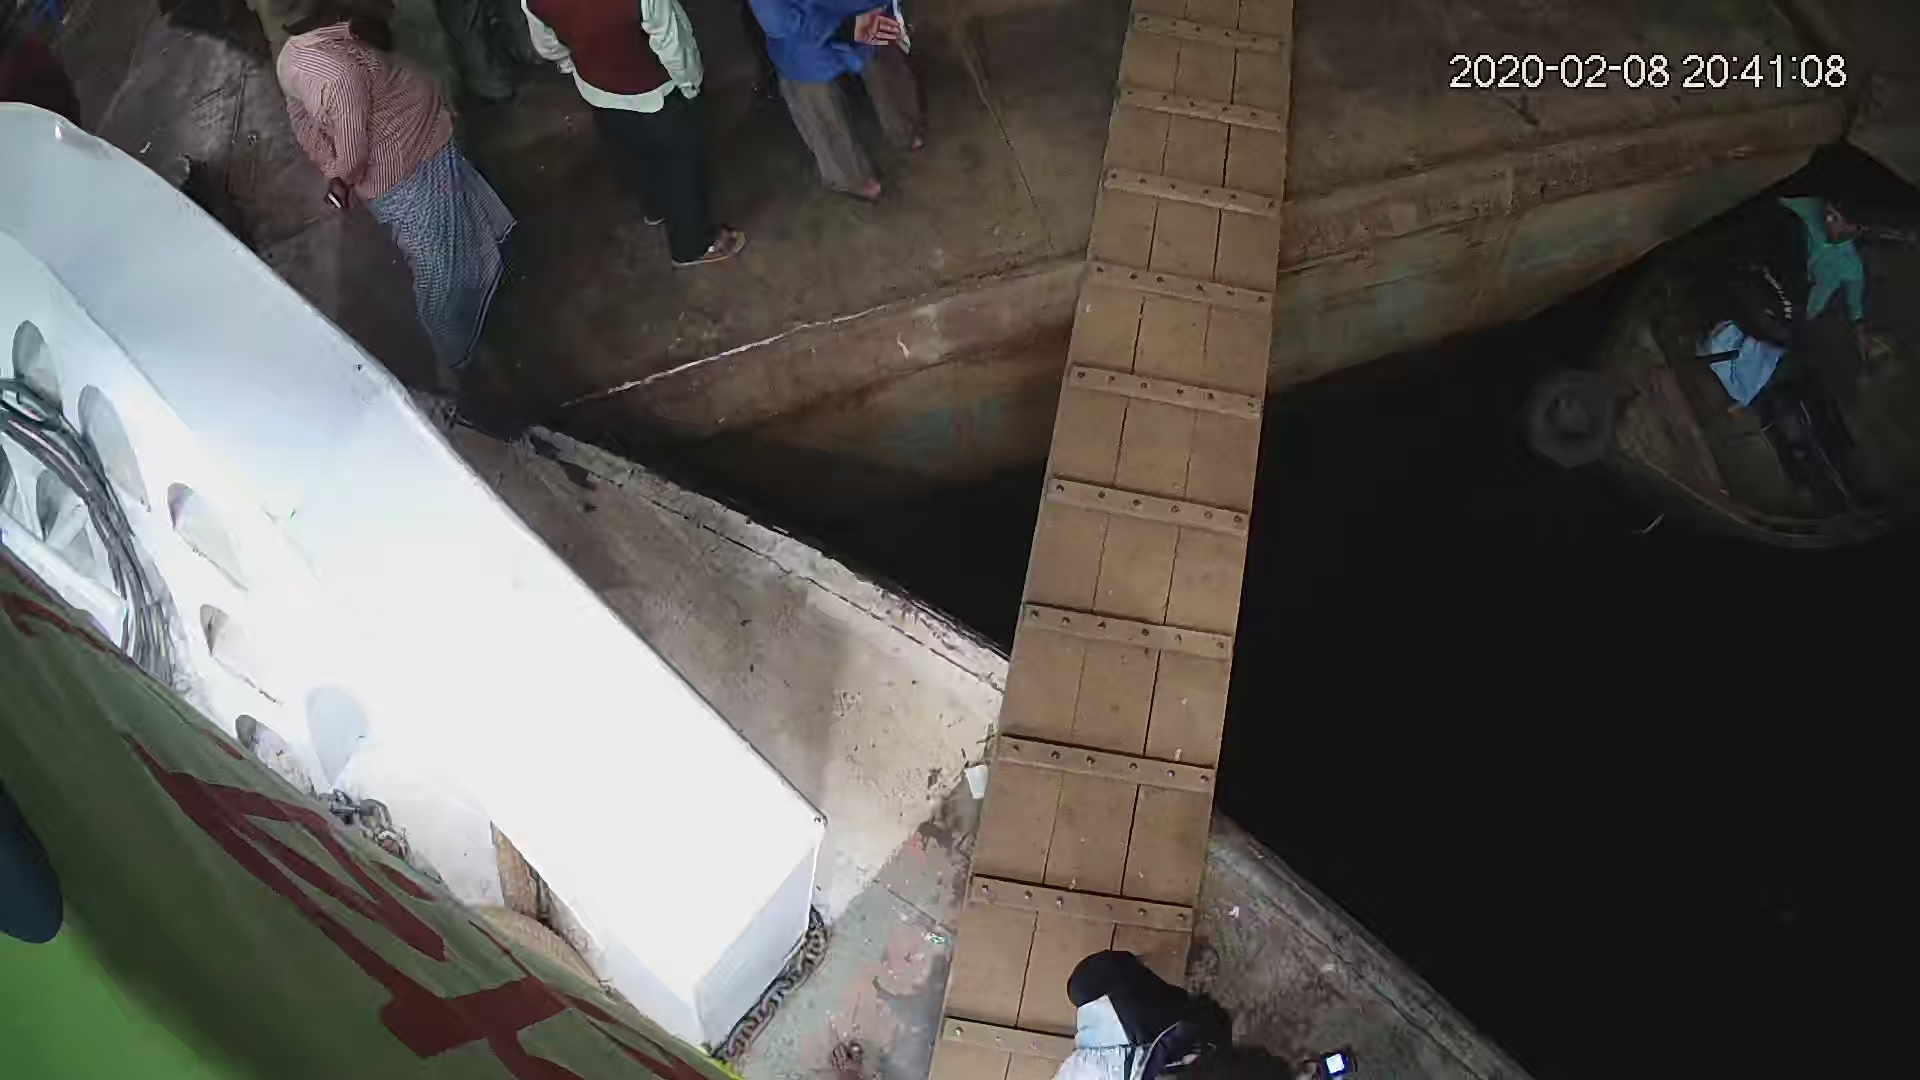person: (265, 1, 509, 403), (515, 3, 752, 274), (1688, 178, 1871, 418)
